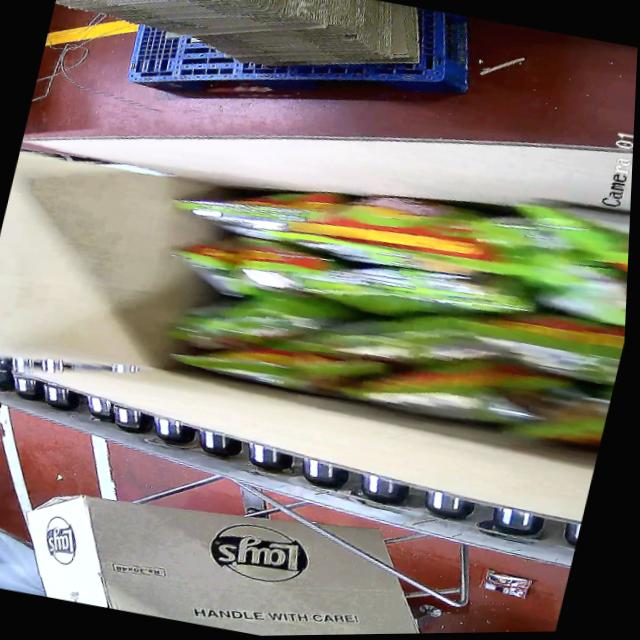YOGURT_HERB: (127, 127, 634, 454)
